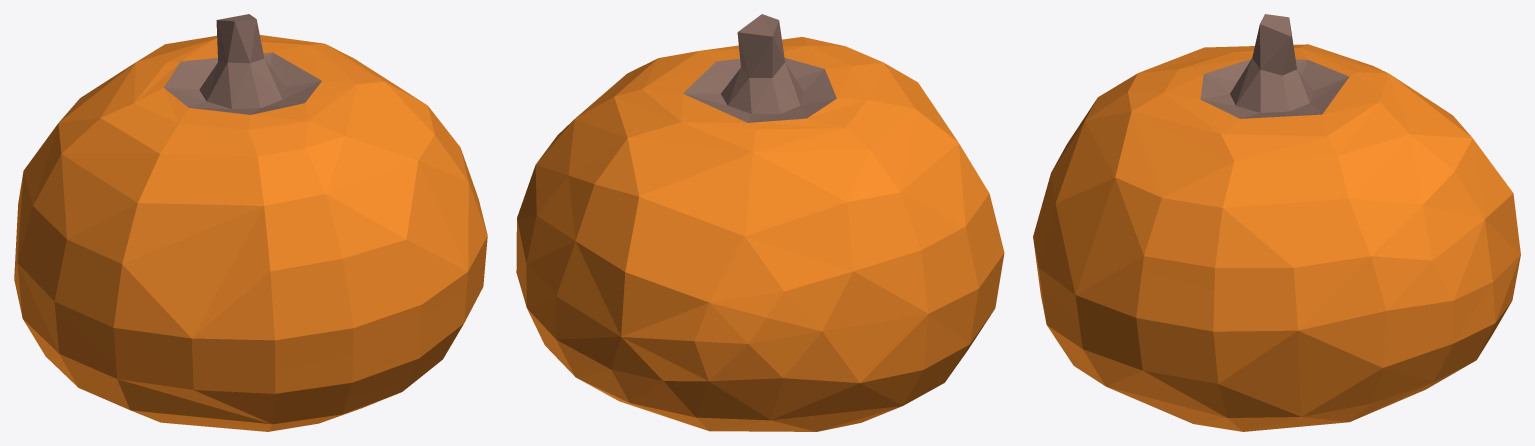
Rendered from fantasy_plant_028.fbx.
The picture shows the model from 3 angles, left to right: view 1: azimuth 30°, elevation 25°; view 2: azimuth 150°, elevation 25°; view 3: azimuth 270°, elevation 25°; orthographic projection.
Visible parts, largest first — view 1: fantasy_plant.028; view 2: fantasy_plant.028; view 3: fantasy_plant.028.
Boxes of the visible parts, x1,y1,x2,y2 form: fantasy_plant.028: (14,14,487,431); fantasy_plant.028: (516,14,1004,431); fantasy_plant.028: (1033,14,1520,431).
Bounding box in the file's own units: 122 × 103 × 126.
1 material, 1 textured.
